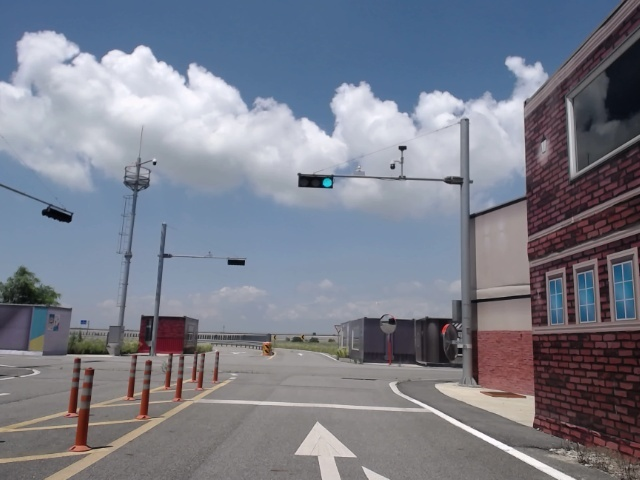green_3: (299, 174, 332, 188)
